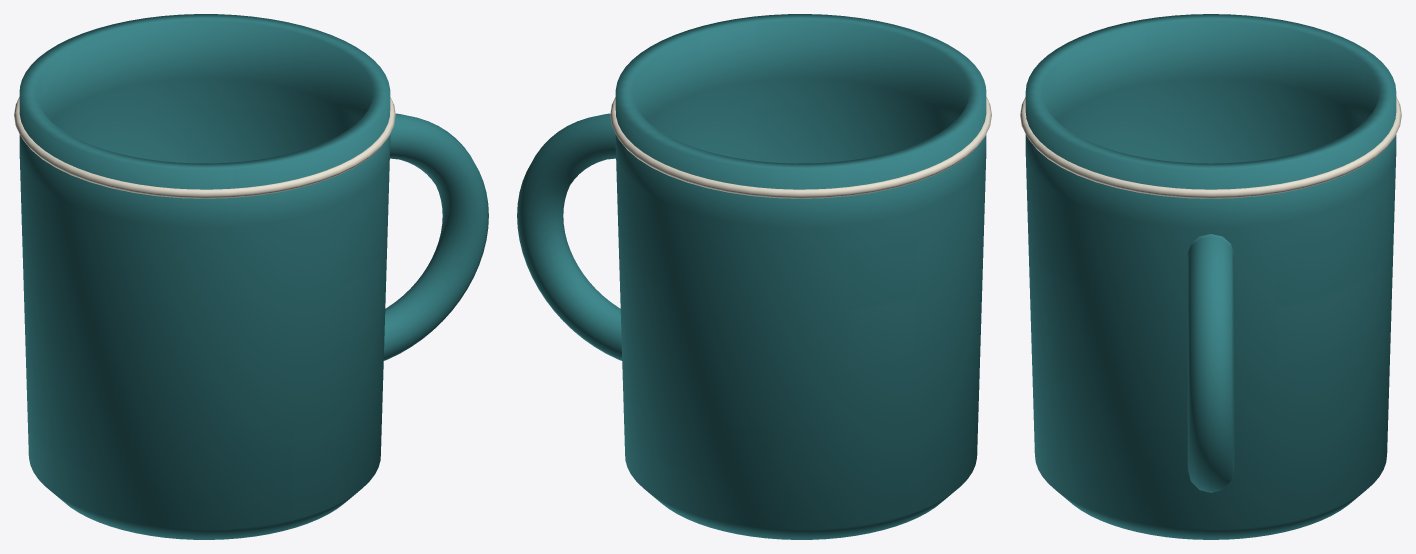
File: glazed-mug.glb
The picture shows the model from 3 angles, left to right: view 1: azimuth 30°, elevation 25°; view 2: azimuth 150°, elevation 25°; view 3: azimuth 270°, elevation 25°; orthographic projection.
Visible parts, largest first — view 1: Open glazed ceramic cup, Original cup glaze accent; view 2: Open glazed ceramic cup, Original cup glaze accent; view 3: Open glazed ceramic cup, Original cup glaze accent.
Part boxes in pixels (<box>): Open glazed ceramic cup: <box>19,14,488,539</box>; Original cup glaze accent: <box>14,97,395,198</box>; Open glazed ceramic cup: <box>517,14,986,539</box>; Original cup glaze accent: <box>610,97,991,198</box>; Open glazed ceramic cup: <box>1025,14,1396,539</box>; Original cup glaze accent: <box>1020,97,1401,198</box>.
Size of the model in its own units: 0.1223 by 0.1 by 0.0906.
2 materials, 2 textured.
